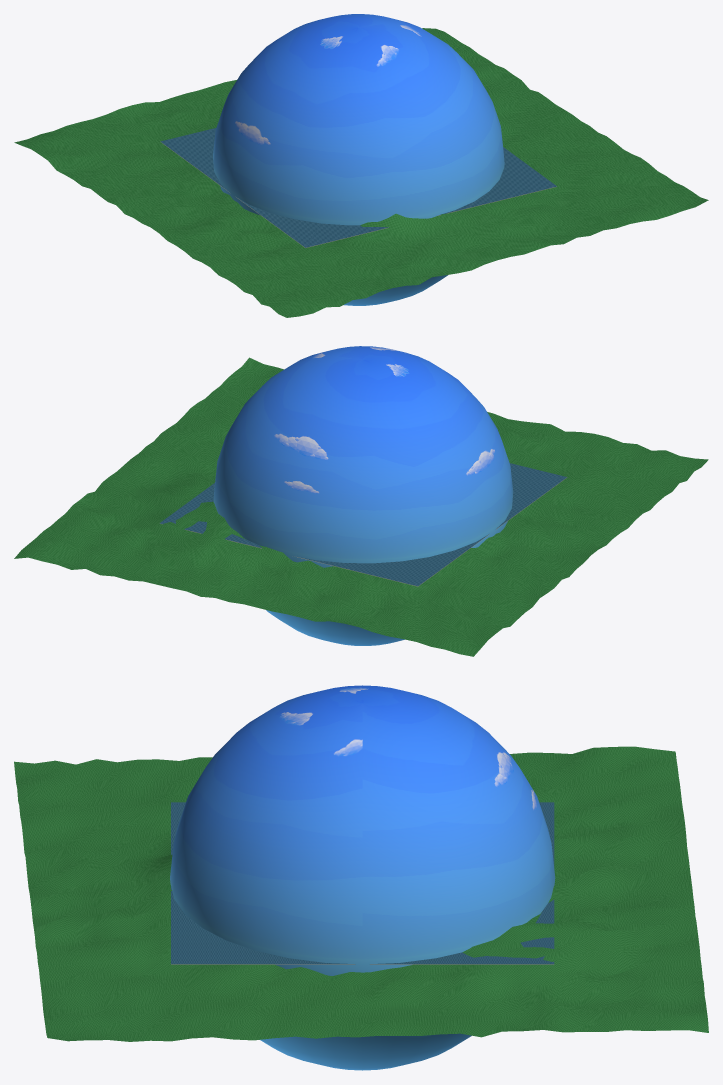
Rendered from map.obj.
3 renders of one model, top to bottom at view 1: azimuth 30°, elevation 25°; view 2: azimuth 150°, elevation 25°; view 3: azimuth 270°, elevation 25°, orthographic. The views are drawn at different scales.
Visible parts, largest first — view 1: Plane.004, sky_nocol_textured, water_nocol_textured; view 2: Plane.004, sky_nocol_textured, water_nocol_textured; view 3: Plane.004, sky_nocol_textured, water_nocol_textured.
Part boxes in pixels (bbox=[...]): Plane.004: bbox=[14, 28, 708, 317]; sky_nocol_textured: bbox=[213, 14, 504, 305]; water_nocol_textured: bbox=[160, 128, 556, 247]; Plane.004: bbox=[14, 357, 708, 656]; sky_nocol_textured: bbox=[213, 346, 513, 645]; water_nocol_textured: bbox=[160, 463, 566, 586]; Plane.004: bbox=[14, 746, 708, 1041]; sky_nocol_textured: bbox=[170, 685, 555, 1070]; water_nocol_textured: bbox=[171, 802, 554, 964].
Bounding box in the file's own units: 5876 × 3258 × 5876.
